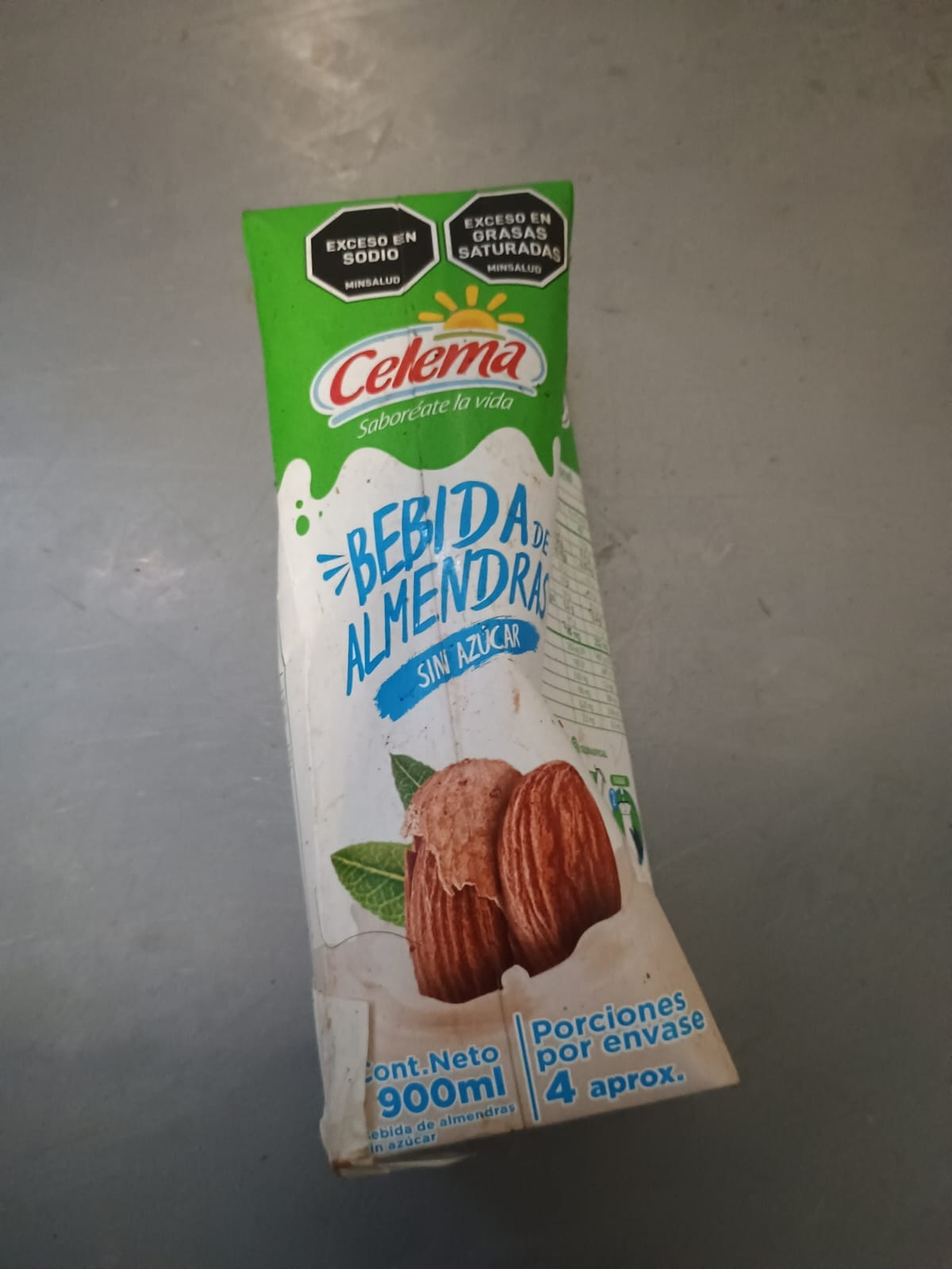Carton: (246, 186, 740, 1163)
